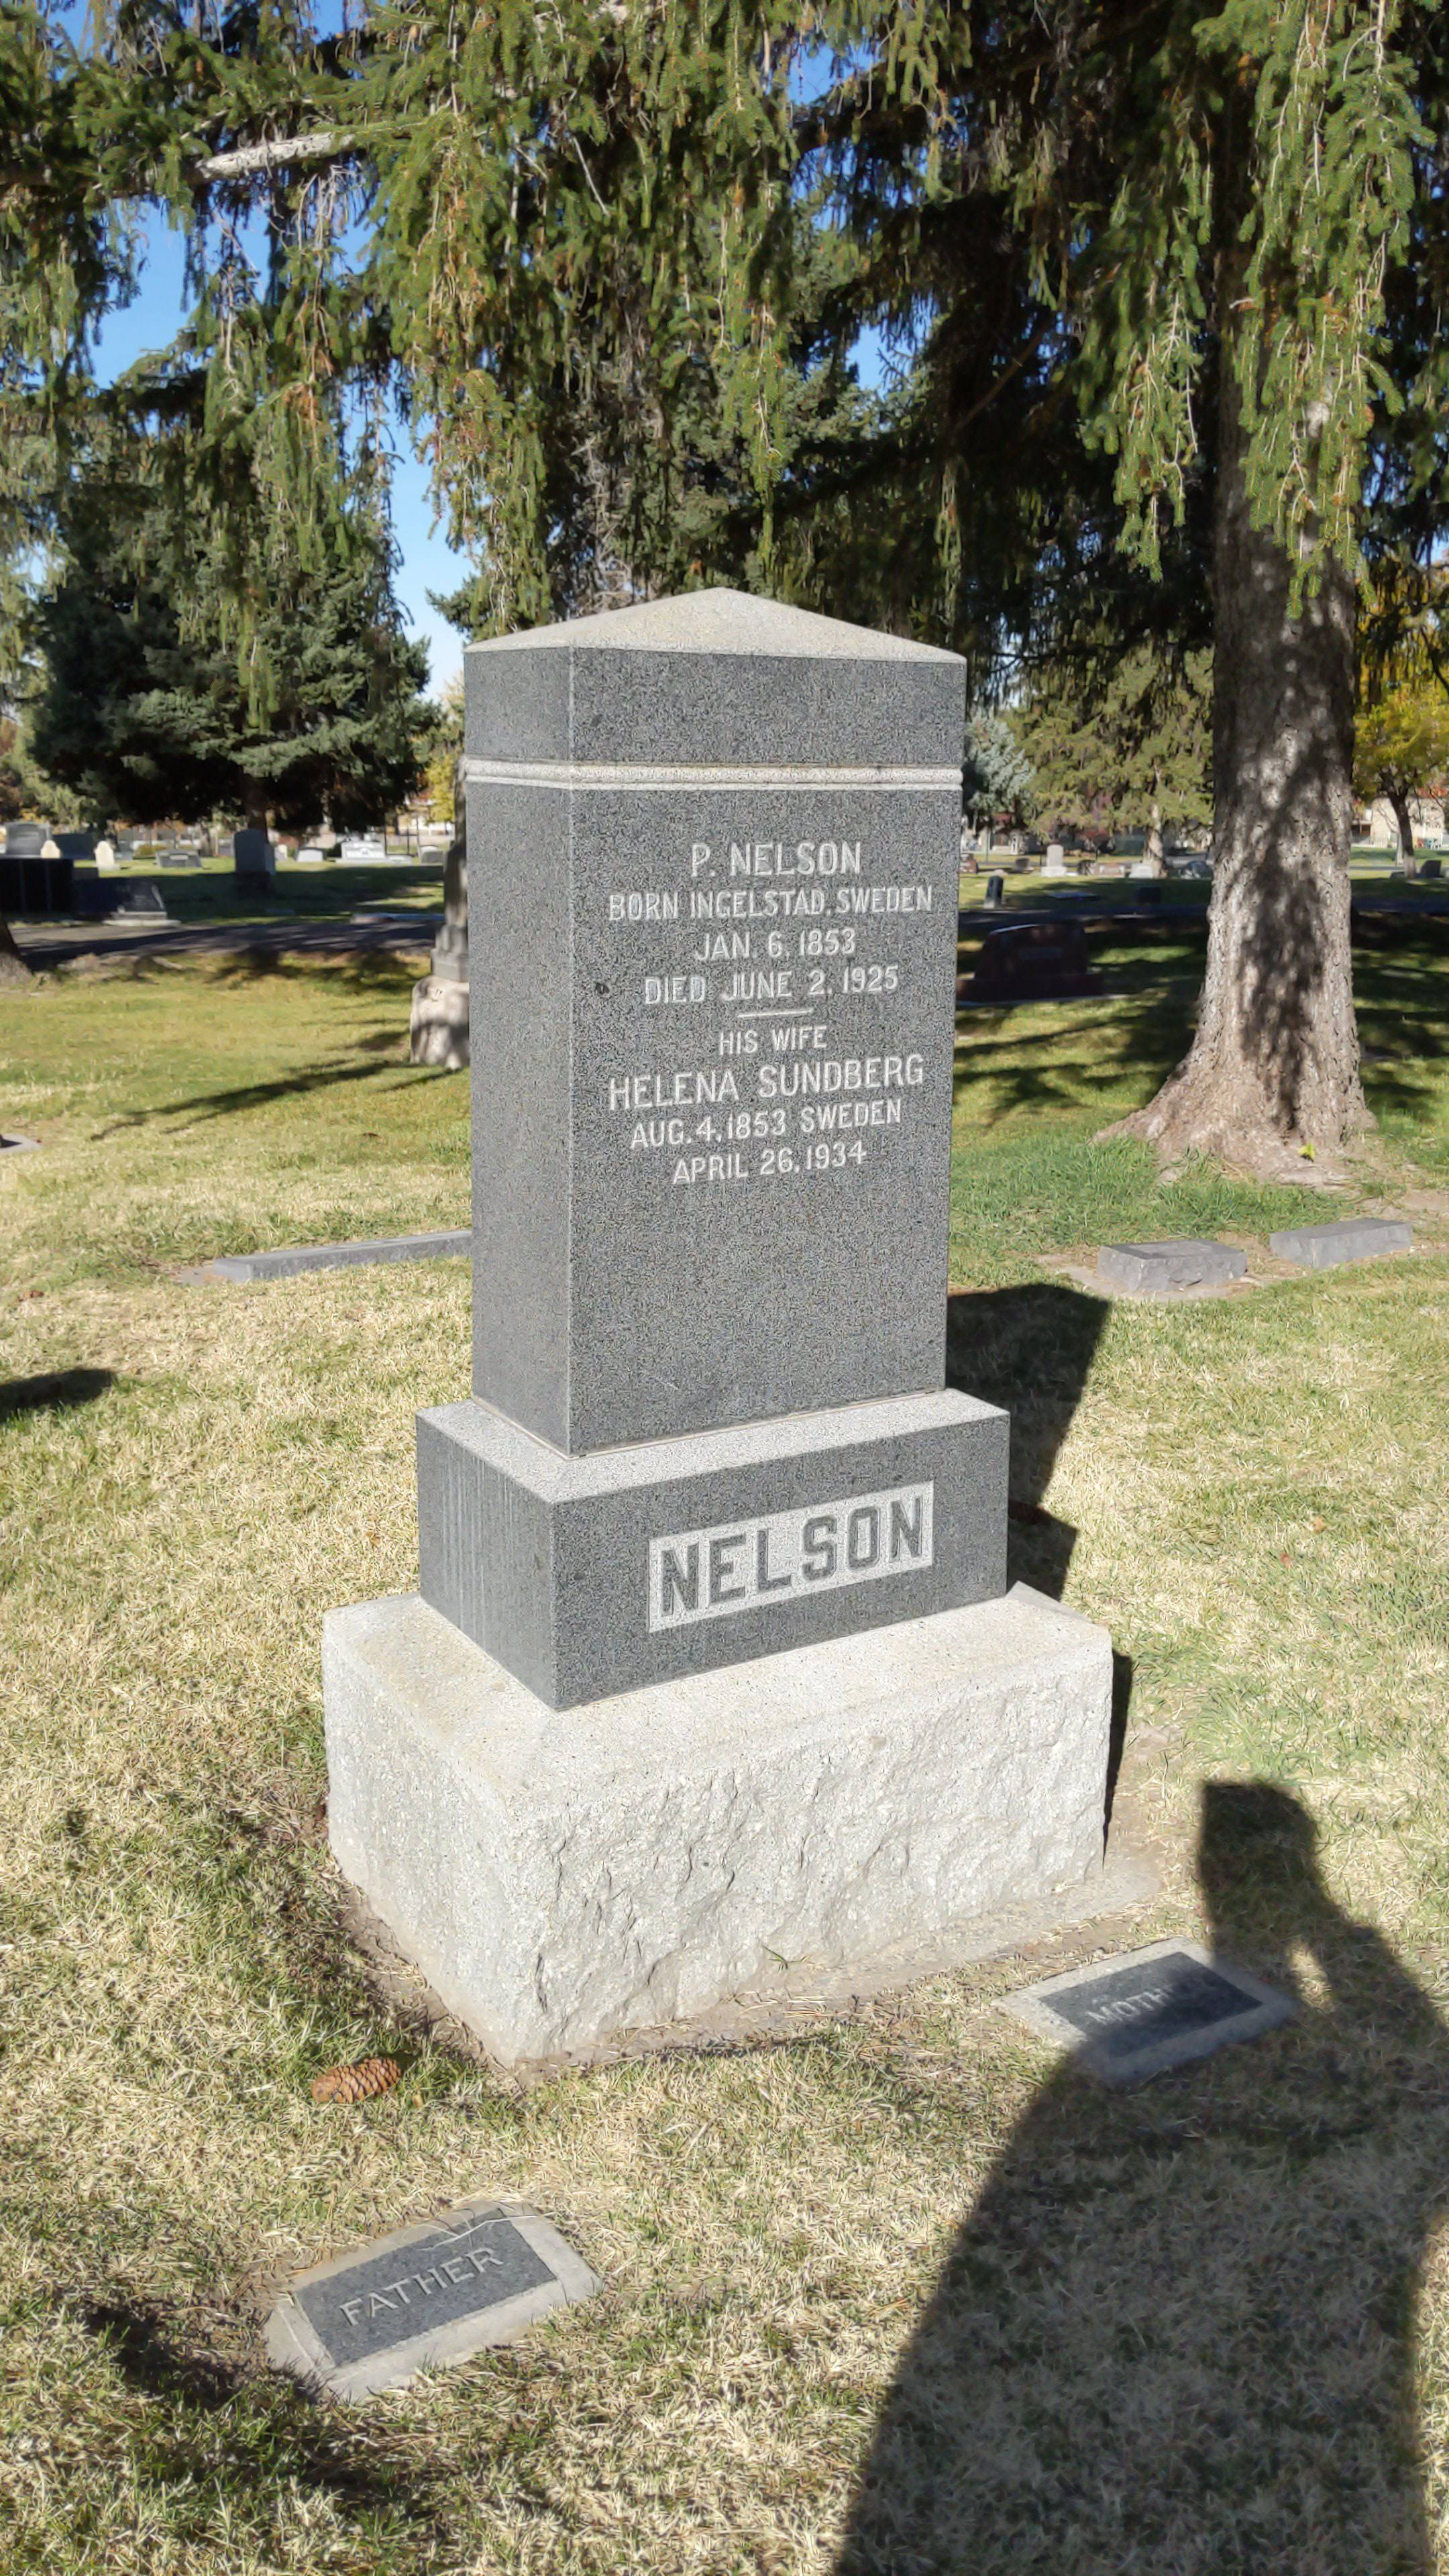obelisk: (428, 577, 1010, 1714)
